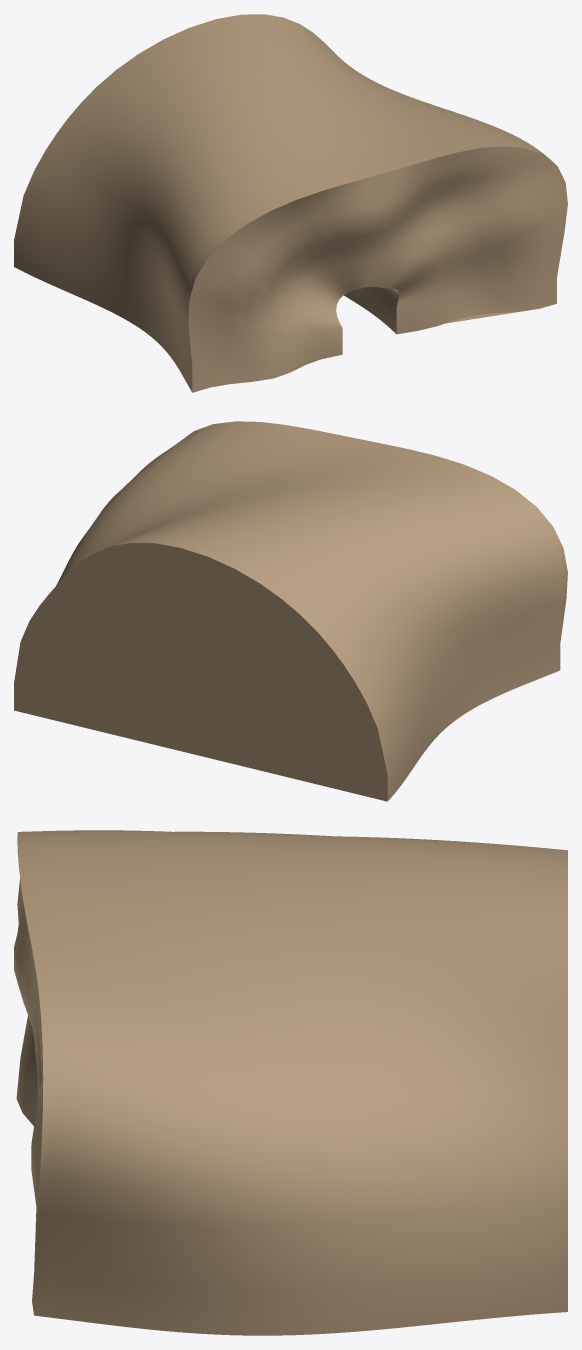
File: TitleTunnel.obj
3 views of the same model, one above another, from view 1: azimuth 30°, elevation 25°; view 2: azimuth 150°, elevation 25°; view 3: azimuth 270°, elevation 25° (orthographic). The views are drawn at different scales.
Parts seen in each view (by area): view 1: TitleCaveMountain; view 2: TitleCaveMountain; view 3: TitleCaveMountain.
Boxes of the visible parts, left/top/right/bottom form: TitleCaveMountain: left=14, top=14, right=567, bottom=392; TitleCaveMountain: left=14, top=421, right=567, bottom=801; TitleCaveMountain: left=14, top=830, right=567, bottom=1335.
Bounding box in the file's own units: 109 × 52 × 85.51.
1 material, 1 textured.
